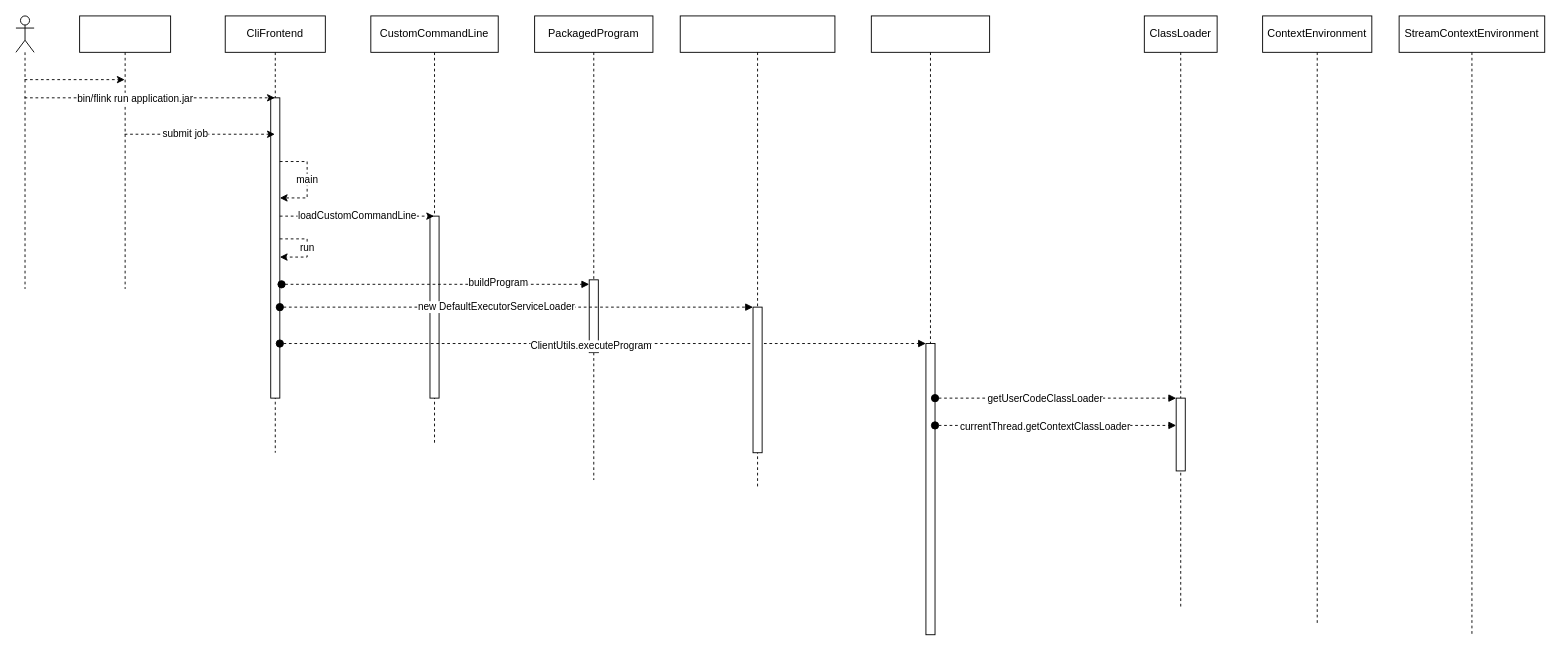
Some shapes in this 1561 by 651 pixel diagram are drawn without their labels. The shapes that lost their labels are listed below. From the top down, each one's box as (x1, y1, x2, y2) in pixels, then its label:
(79, 15, 171, 289): application.jar
(679, 15, 835, 489): DefaultExecutorServerLoader
(870, 15, 990, 598): ClientUtils
